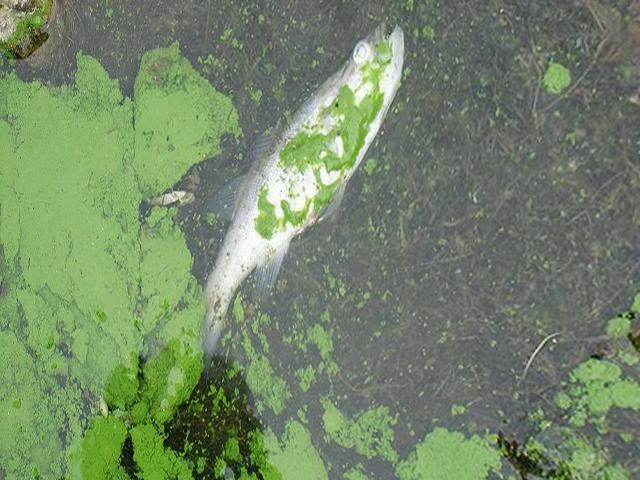Eutrophication Pollution: (0, 68, 226, 480)
